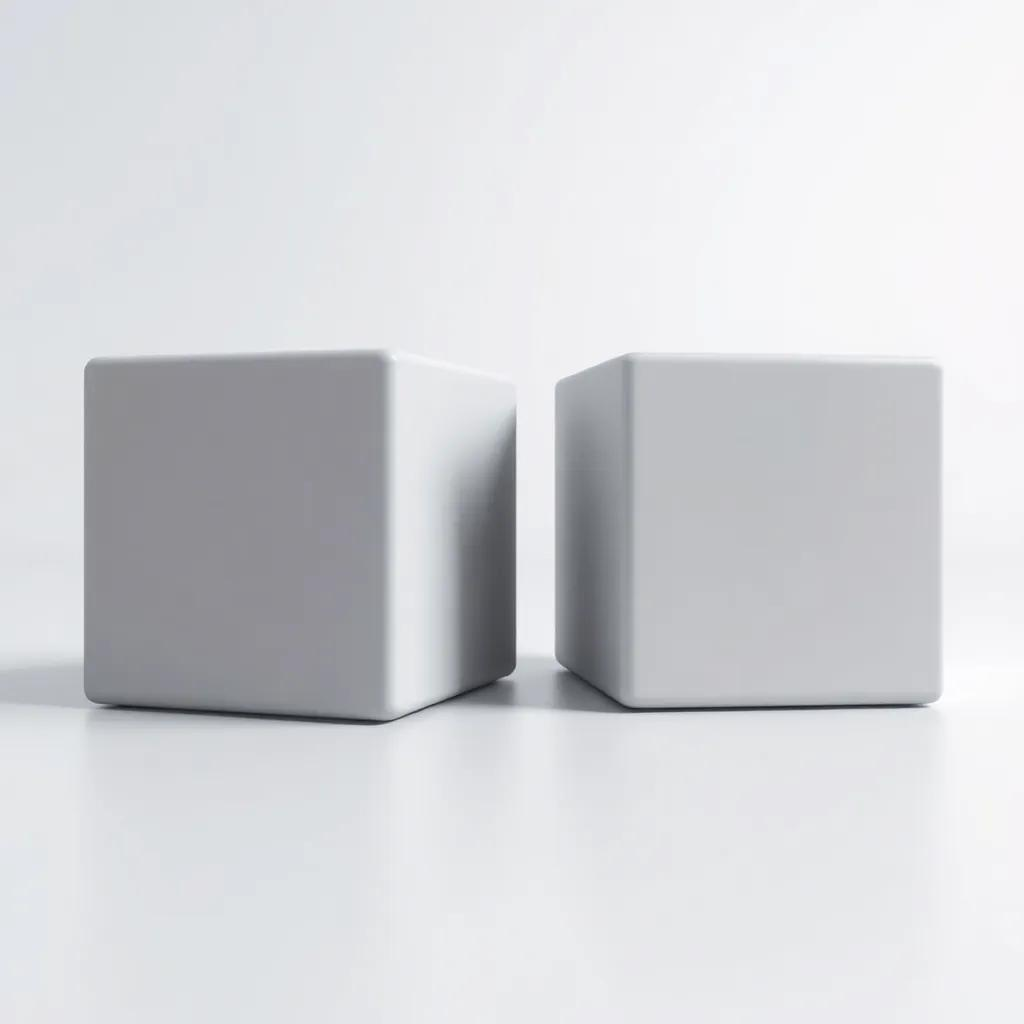cube: (81, 346, 518, 723), (553, 349, 943, 710)
